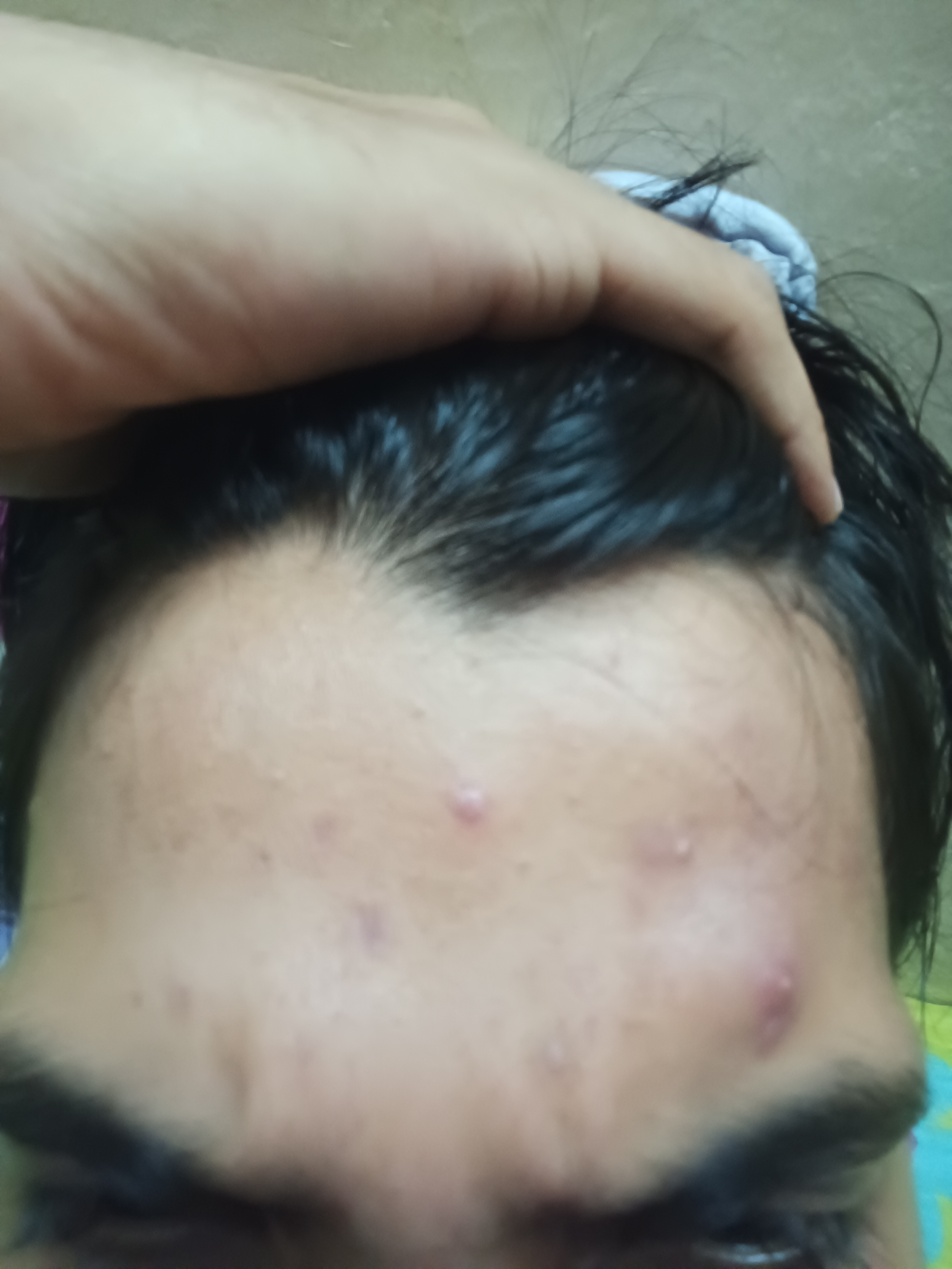nodule: (750, 956, 813, 1015)
papule: (445, 782, 495, 827)
